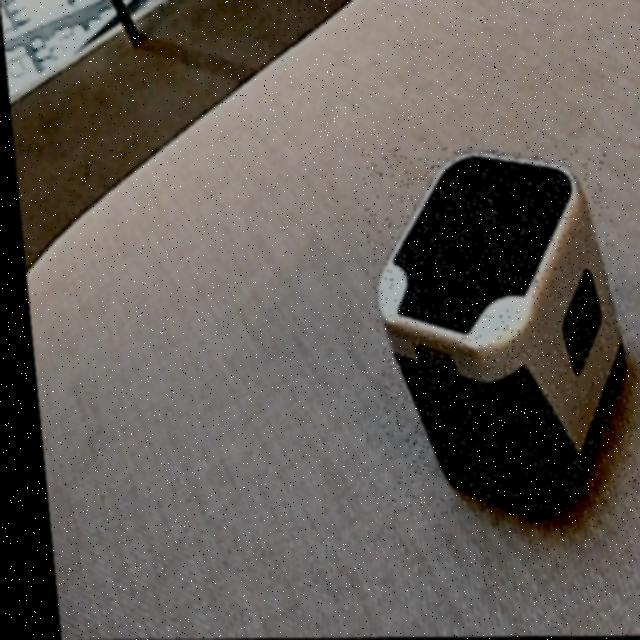adapter: (356, 146, 629, 516)
